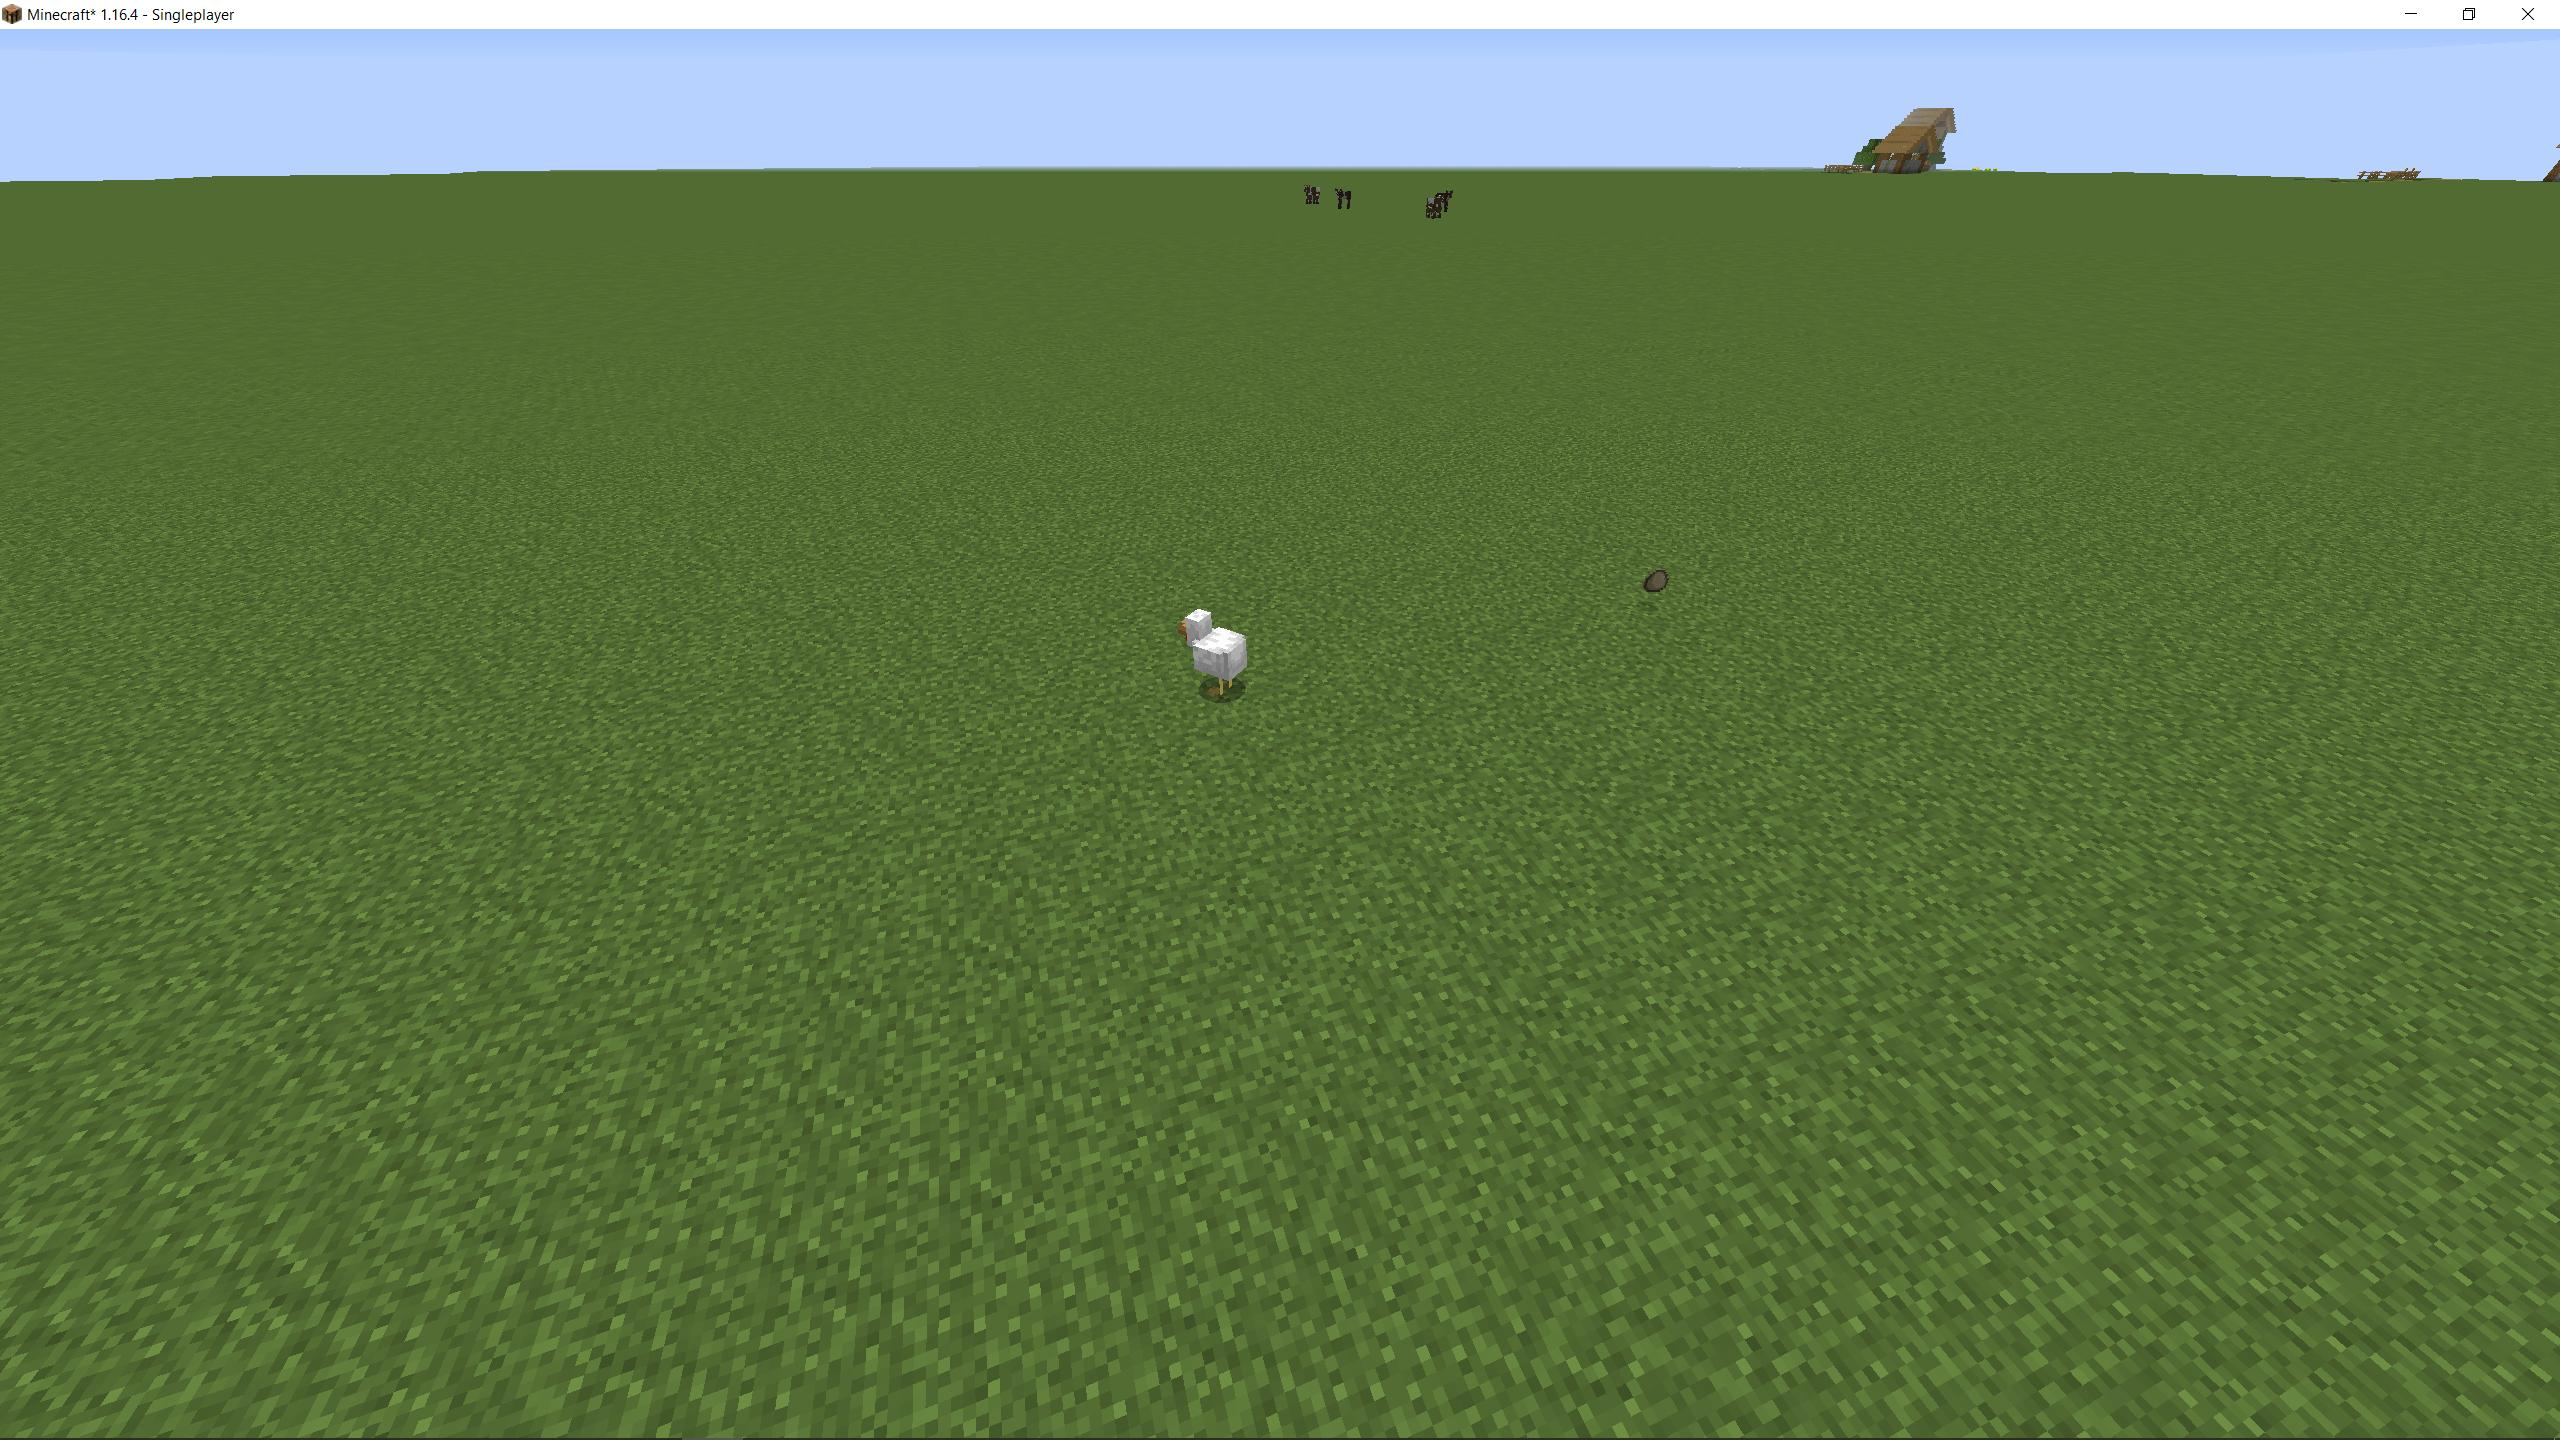chicken: (1173, 605, 1252, 709)
